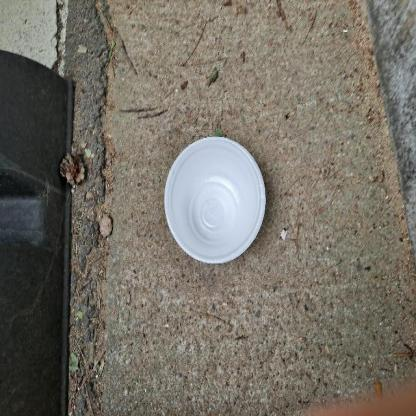Glass Cup: (163, 135, 266, 264), (164, 137, 266, 263)
